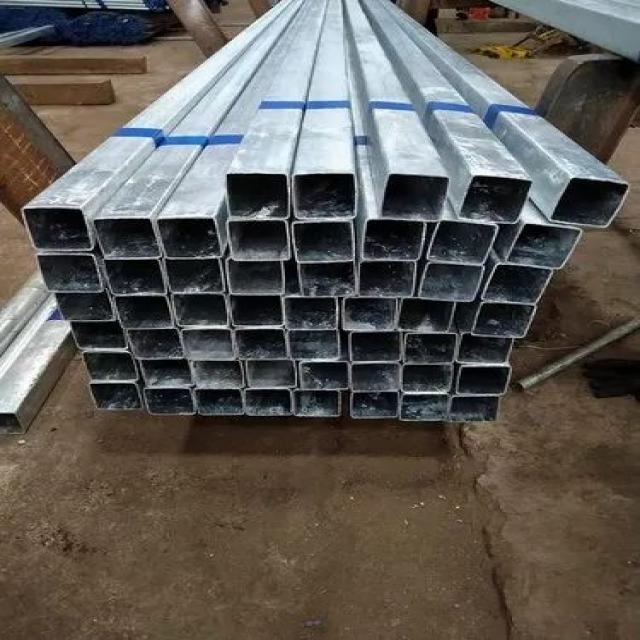pipe: (550, 178, 630, 227), (459, 176, 532, 224), (506, 223, 582, 268), (381, 173, 449, 221), (427, 221, 498, 264), (22, 207, 91, 250), (293, 173, 356, 219), (226, 174, 289, 219), (92, 218, 160, 259), (483, 264, 554, 303), (156, 218, 222, 259), (362, 219, 425, 260), (35, 254, 101, 293), (293, 220, 354, 261), (419, 264, 483, 301), (227, 220, 289, 258), (103, 258, 166, 294), (112, 295, 175, 329), (472, 303, 536, 336), (359, 261, 416, 297), (164, 258, 224, 292), (227, 259, 284, 294), (397, 298, 455, 332), (299, 262, 356, 296), (127, 328, 182, 360), (457, 332, 512, 364), (69, 321, 127, 351), (55, 291, 115, 320), (172, 295, 228, 326), (284, 297, 338, 329), (344, 298, 396, 330), (456, 366, 512, 395), (234, 329, 287, 359), (404, 334, 457, 364), (182, 328, 233, 359), (90, 383, 145, 411), (83, 352, 138, 380), (287, 330, 340, 359), (350, 331, 401, 361), (139, 360, 193, 387), (192, 360, 243, 387), (144, 388, 195, 415), (247, 360, 296, 388), (402, 364, 452, 391), (350, 363, 400, 390), (449, 396, 500, 422), (401, 394, 450, 421), (300, 362, 348, 389), (196, 388, 243, 414), (352, 392, 399, 418), (295, 390, 341, 416), (245, 390, 292, 415)
